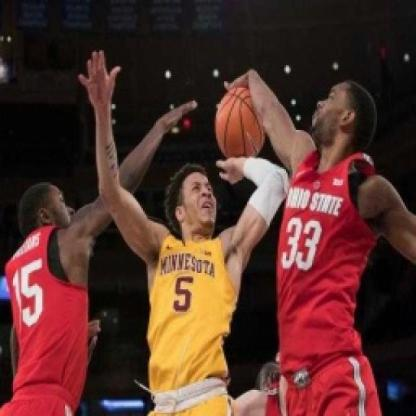basketball: (208, 79, 274, 167)
